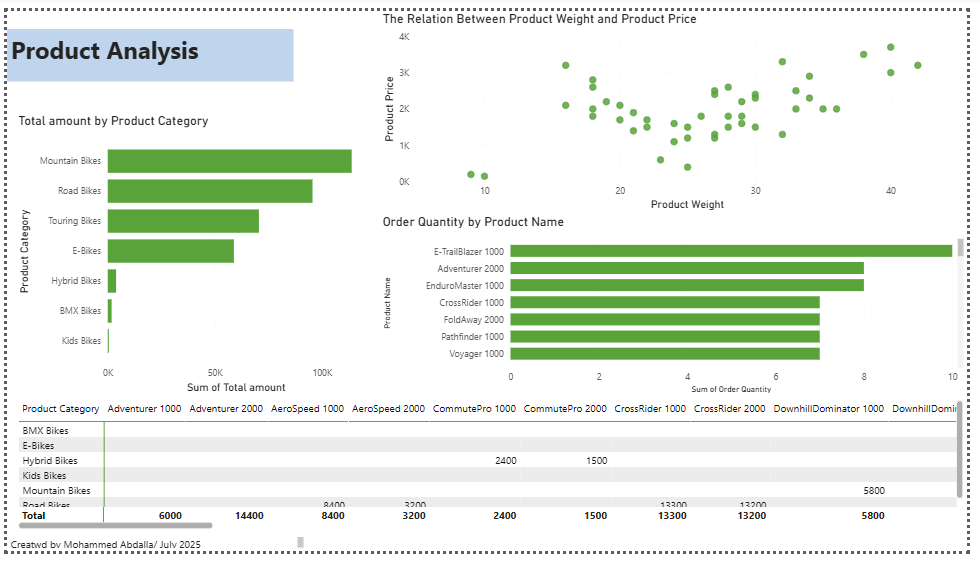

What the dashboard file says about the page in this screenshot:
{"tool":"powerbi","page":{"name":"Products analysis","canvas":[1280,720],"ordinal":1},"visuals":[{"type":"barChart","title":"Total amount by Product Category","fields":{"Category":["Sales (2).Product Category"],"Y":["Sum(Sales (2).Total amount)"]},"box":[9.4,136.1,485.7,378],"z":0},{"type":"pivotTable","fields":{"Values":["Sum(Sales (2).Total amount)"],"Rows":["Sales (2).Product Category"],"Columns":["Sales (2).Product Name"]},"box":[9.4,514,1269.9,181.4],"z":1000},{"type":"scatterChart","title":"The Relation Between Product Weight and Product Price","fields":{"X":["Sales (2).Product Weight"],"Y":["Sales (2).Product Price"]},"box":[495.1,0,784.3,270.2],"z":2000},{"type":"barChart","title":" Order Quantity by Product Name","fields":{"Y":["Sum(Sales (2).Order Quantity)"],"Category":["Sales (2).Product Name"]},"box":[495,270,784,244],"z":3000},{"type":"textbox","box":[0,24.6,381.7,69.9],"z":3001},{"type":"textbox","box":[0,695.4,400.6,24.6],"z":3002}]}

Visuals, with their boxes on the page's 1280x720 design canvas (x1, y1, x2, y2). These are canvas units, not pixel positions in the 980x570 screenshot, which may show the page scaled, cropped or inside an application window:
"Total amount by Product Category" barChart: [9, 136, 495, 514]
pivotTable - Sum(Sales (2).Total amount) x Sales (2).Product Category: [9, 514, 1279, 695]
"The Relation Between Product Weight and Product Price" scatterChart: [495, 0, 1279, 270]
" Order Quantity by Product Name" barChart: [495, 270, 1279, 514]
textbox: [0, 25, 382, 94]
textbox: [0, 695, 401, 720]
